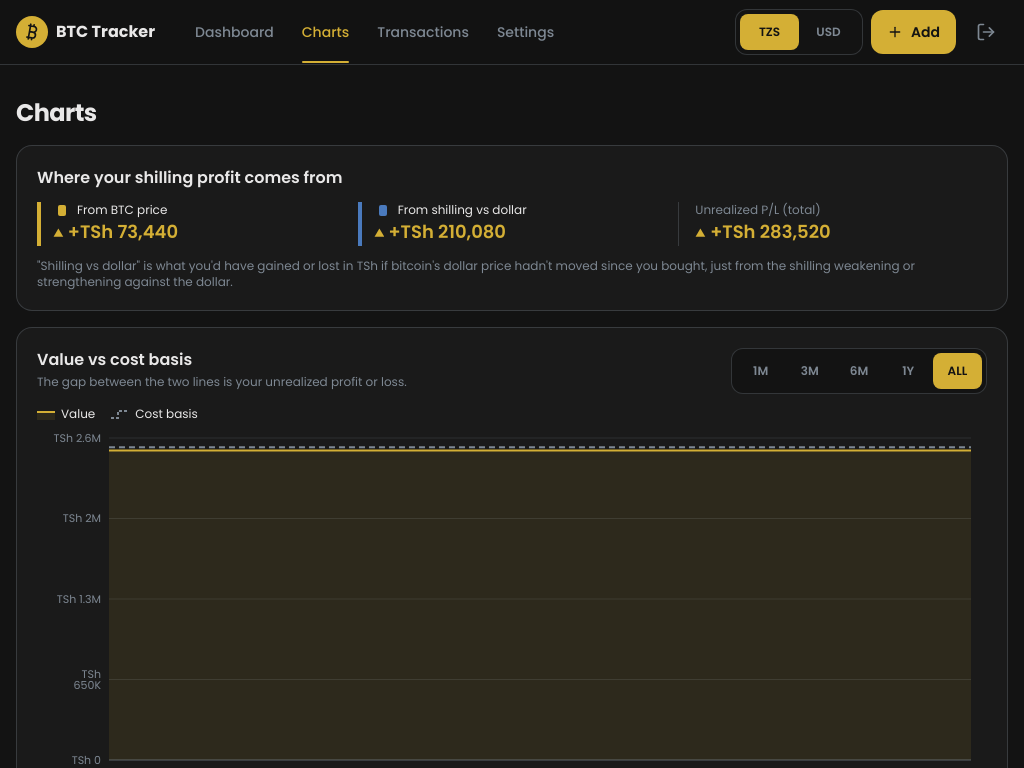
Test: Charts page › shows the FX effect card in TZS only
This screenshot has width=1024, height=768.
Expected: the text "+TSh 73,440" is shown, [53,218,178,246]
Expected: the text "+TSh 210,080" is shown, [374,218,506,246]
Click the radio button labelled "USD" at (828, 32), box [816,23,841,40]
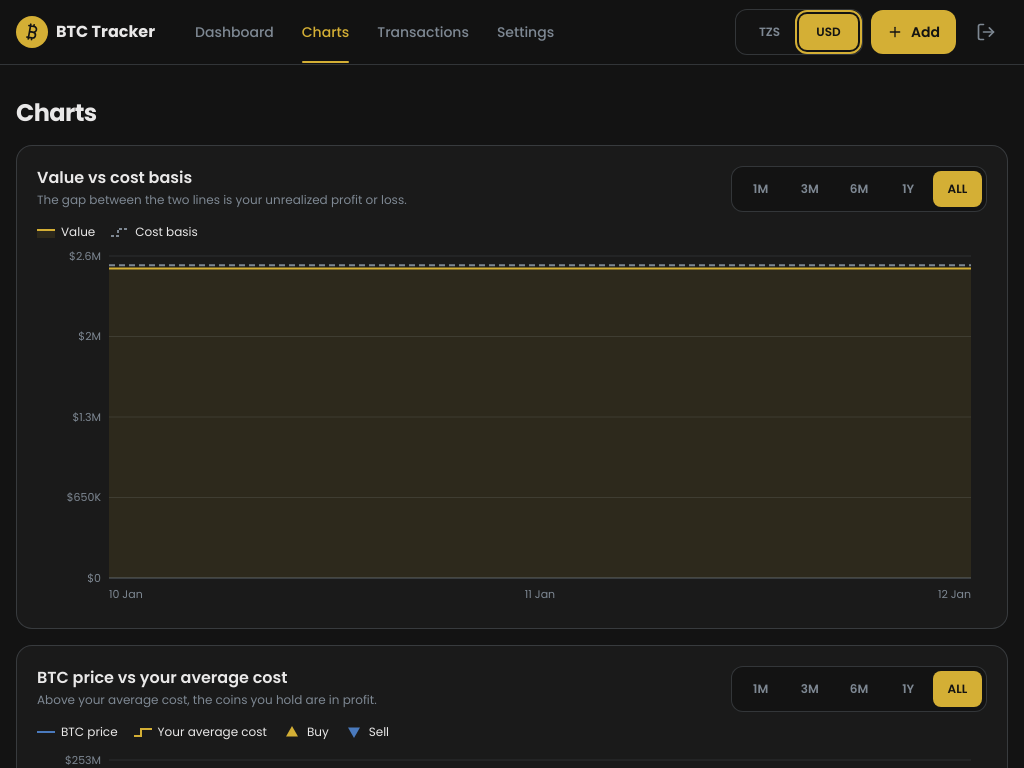
Expected: the heading "Where your shilling profit comes from" is gone
